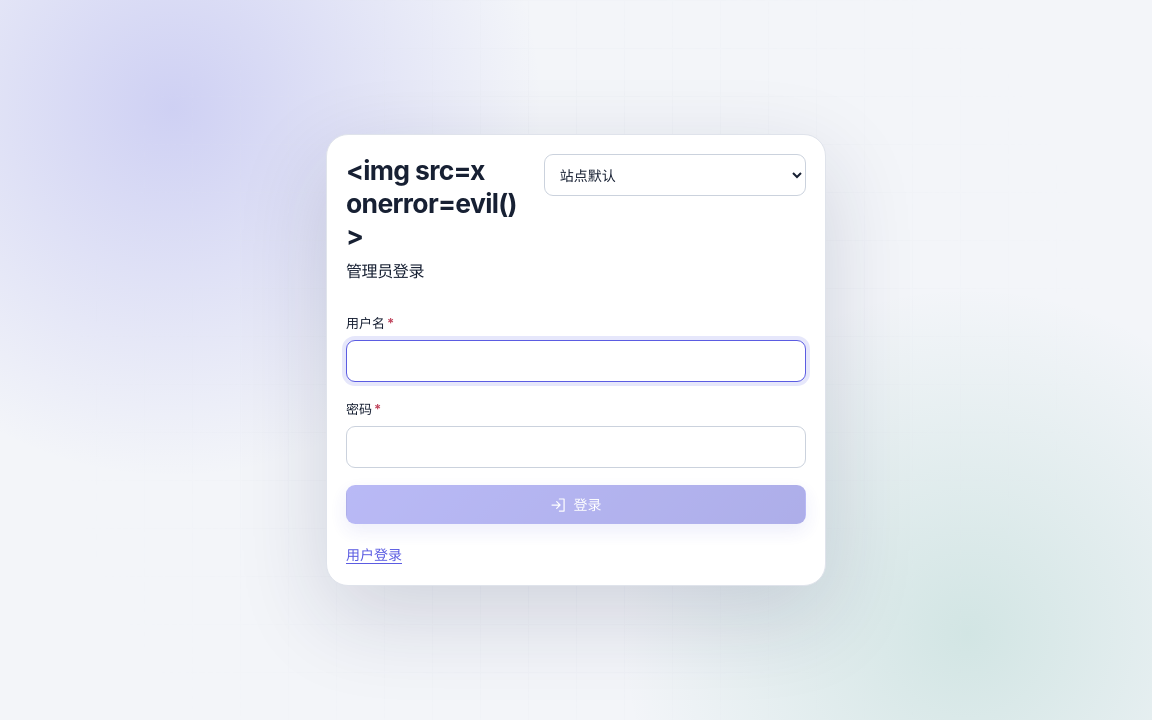
Test: React administrator sign-in › uses a public brand as plain text without changing credential or MFA semantics
Expected: the password field labelled "密码" is shown, [346,426,806,468]
Type "admin" into the field labelled "用户名" at point(576, 361), box [346,340,806,382]
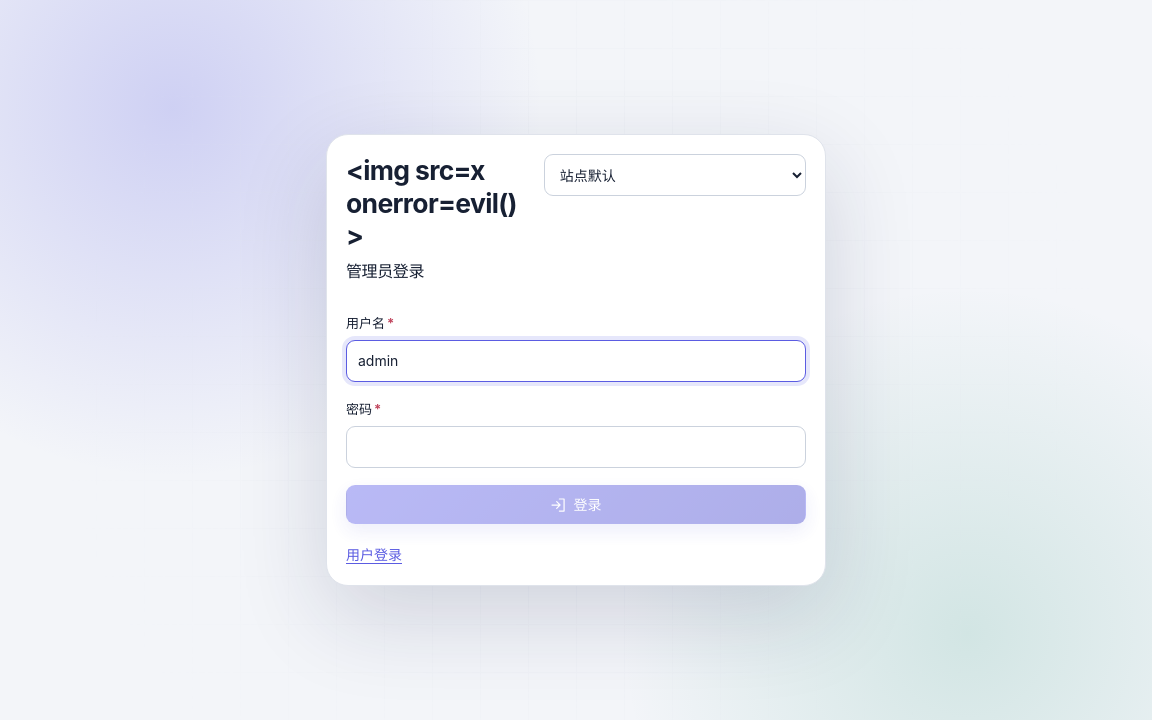
Type "administrator-password" into the password field labelled "密码" at point(576, 447), box [346,426,806,468]
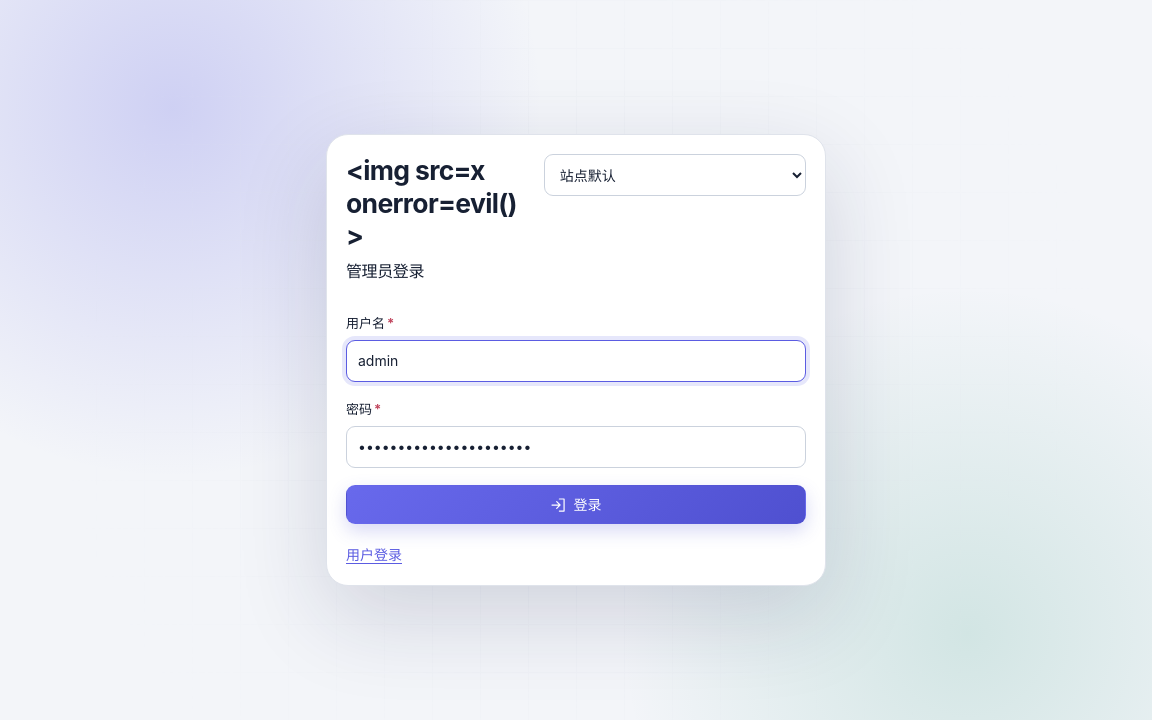
Click the button "登录" at point(576, 504), box [346,485,806,524]
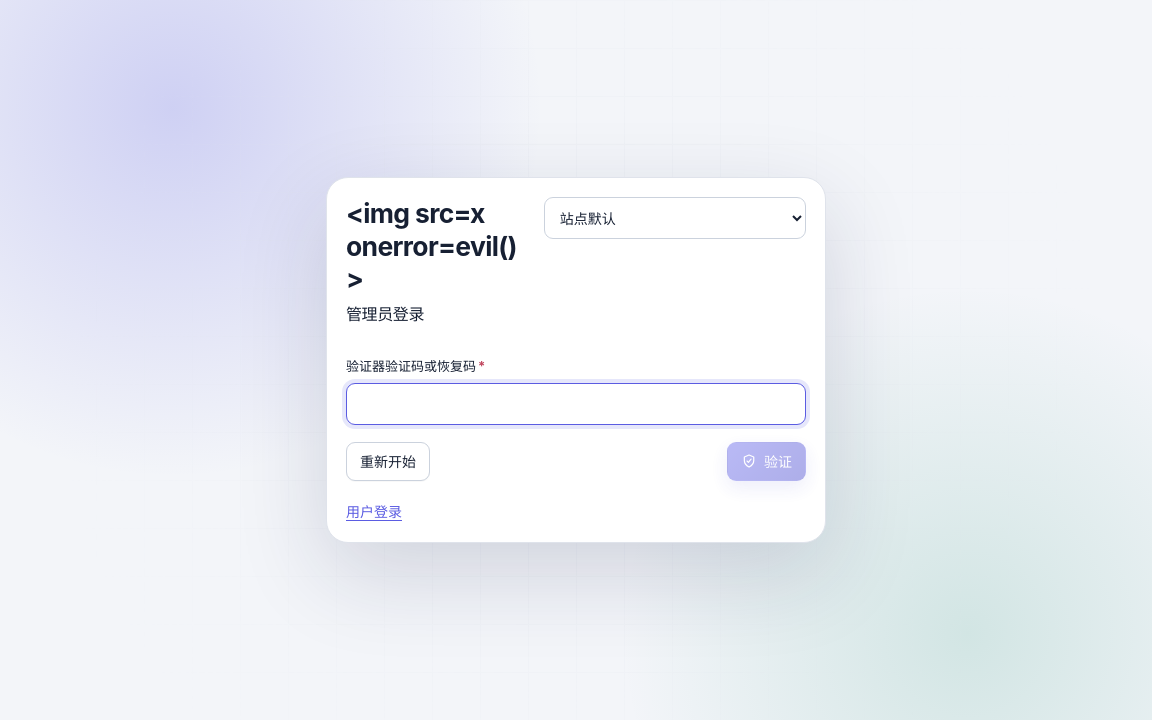
Now the field labelled "验证器验证码或恢复码" is shown, box [346,383,806,425]
